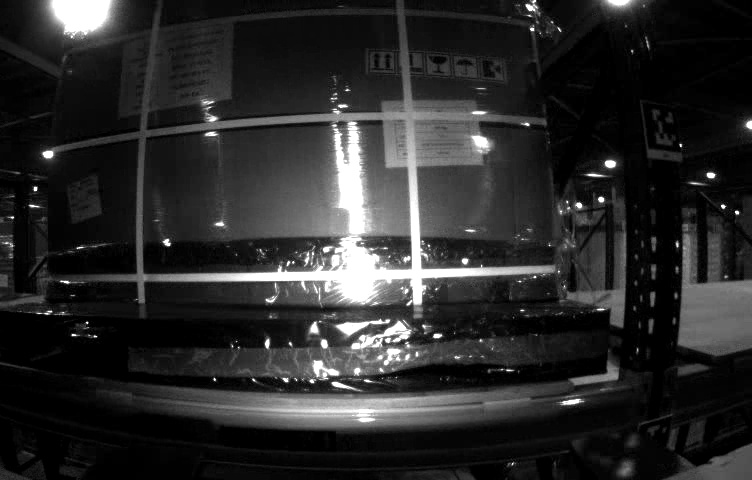True Barcode: (65, 174, 103, 223)
